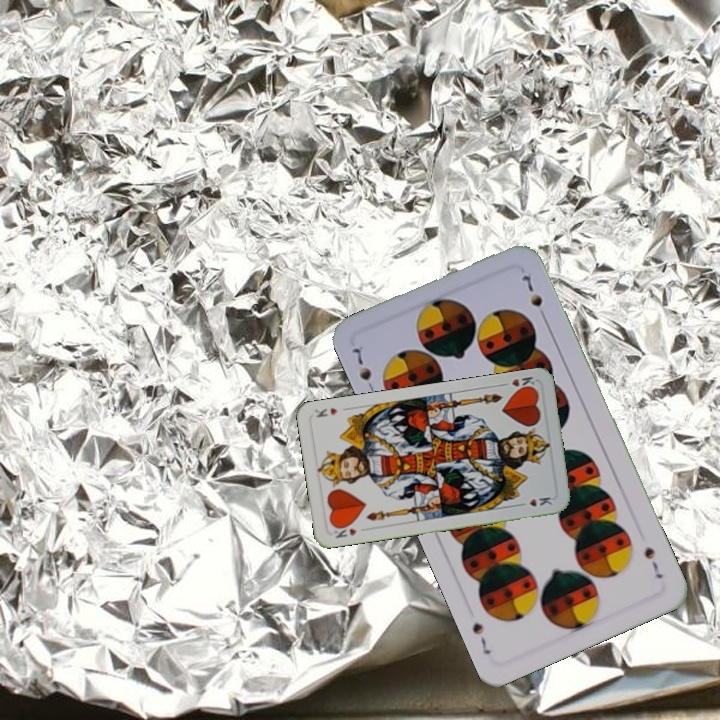HK: (497, 373, 538, 394), (330, 520, 359, 541)
S7: (348, 341, 379, 397), (640, 542, 666, 581)
